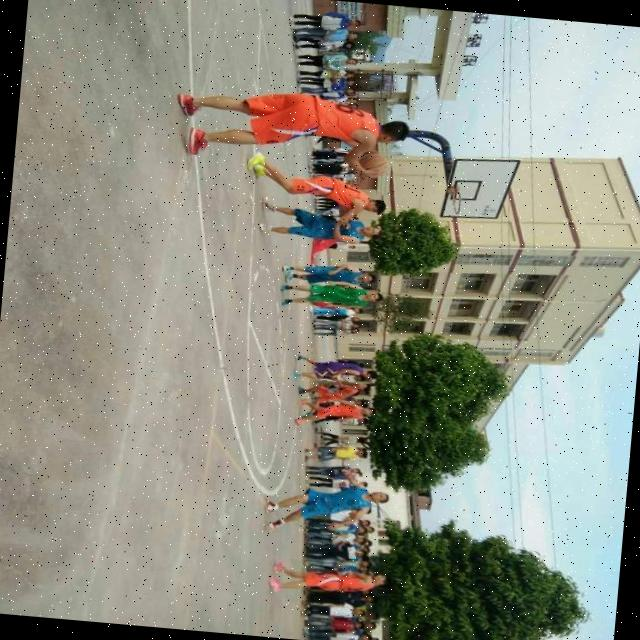ball: (356, 150, 388, 178)
hoop: (447, 187, 463, 215)
